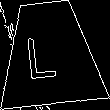L_N: (32, 26, 68, 80)
